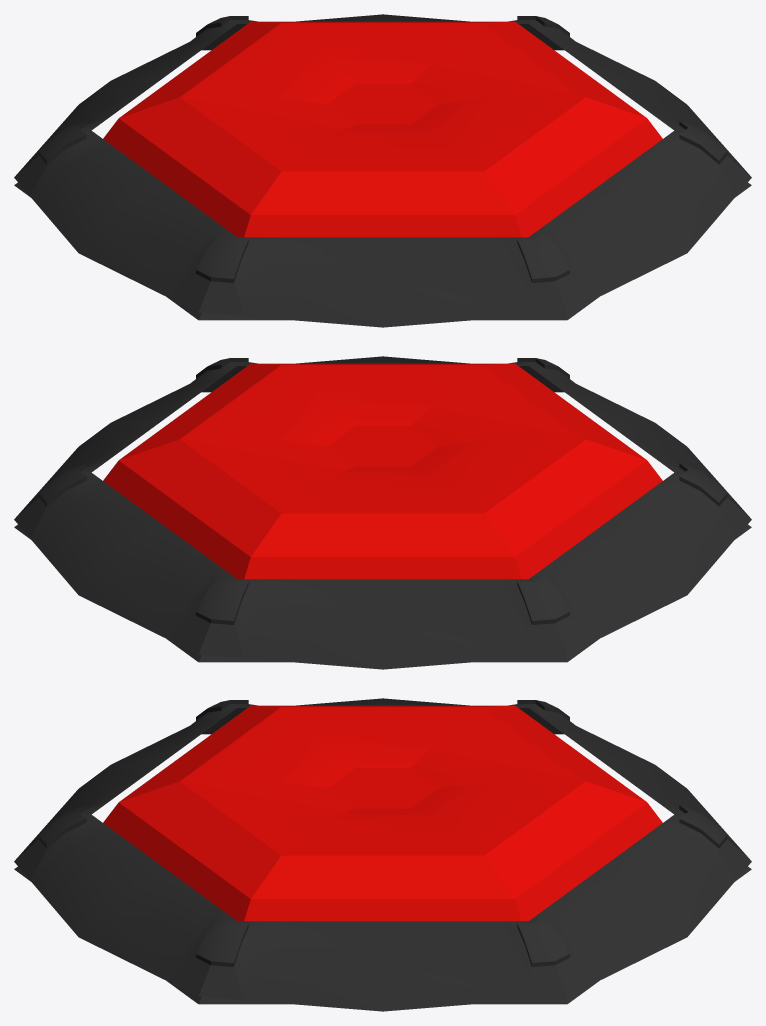
File: Button.fbx
3 renders of one model, top to bottom at view 1: azimuth 30°, elevation 25°; view 2: azimuth 150°, elevation 25°; view 3: azimuth 270°, elevation 25°, orthographic.
Visible parts, largest first — view 1: Button_Top, Button_Bottom; view 2: Button_Top, Button_Bottom; view 3: Button_Top, Button_Bottom.
Part boxes in pixels (x1,y1,x2,y2): Button_Top: (103,21,662,237); Button_Bottom: (14,14,751,327); Button_Top: (103,363,662,579); Button_Bottom: (14,356,751,669); Button_Top: (103,705,662,921); Button_Bottom: (14,698,751,1011).
Bounding box in the file's own units: 392 × 54.23 × 412.
